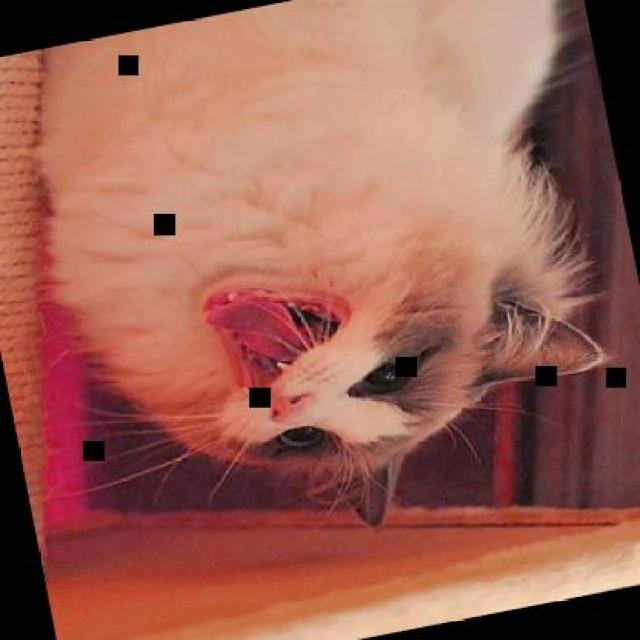cat: (4, 0, 638, 583)
